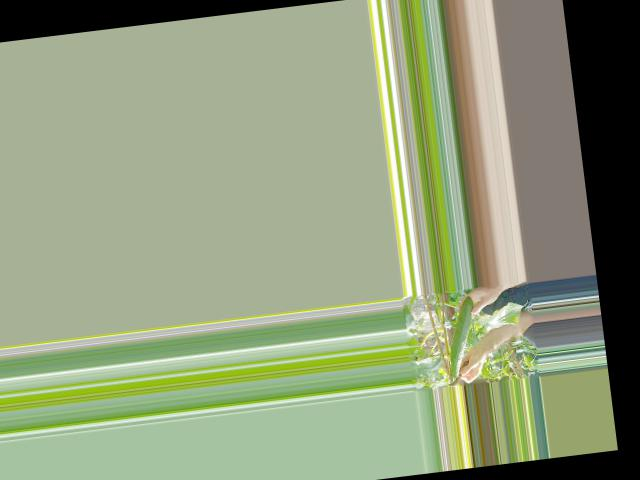cucumber: (442, 295, 482, 377)
